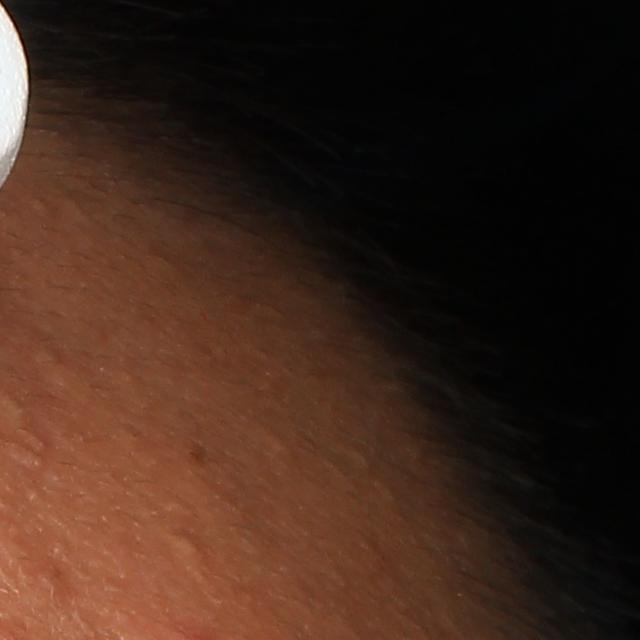comedo: (168, 531, 205, 562)
